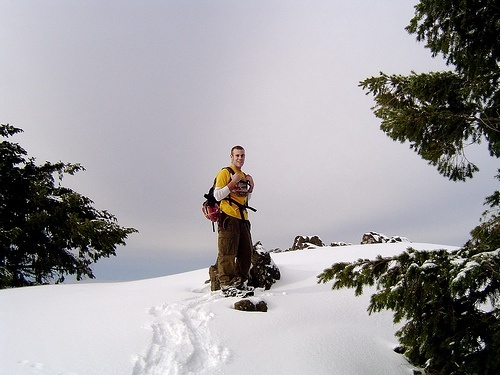head: (229, 146, 247, 167)
person: (203, 143, 254, 294)
